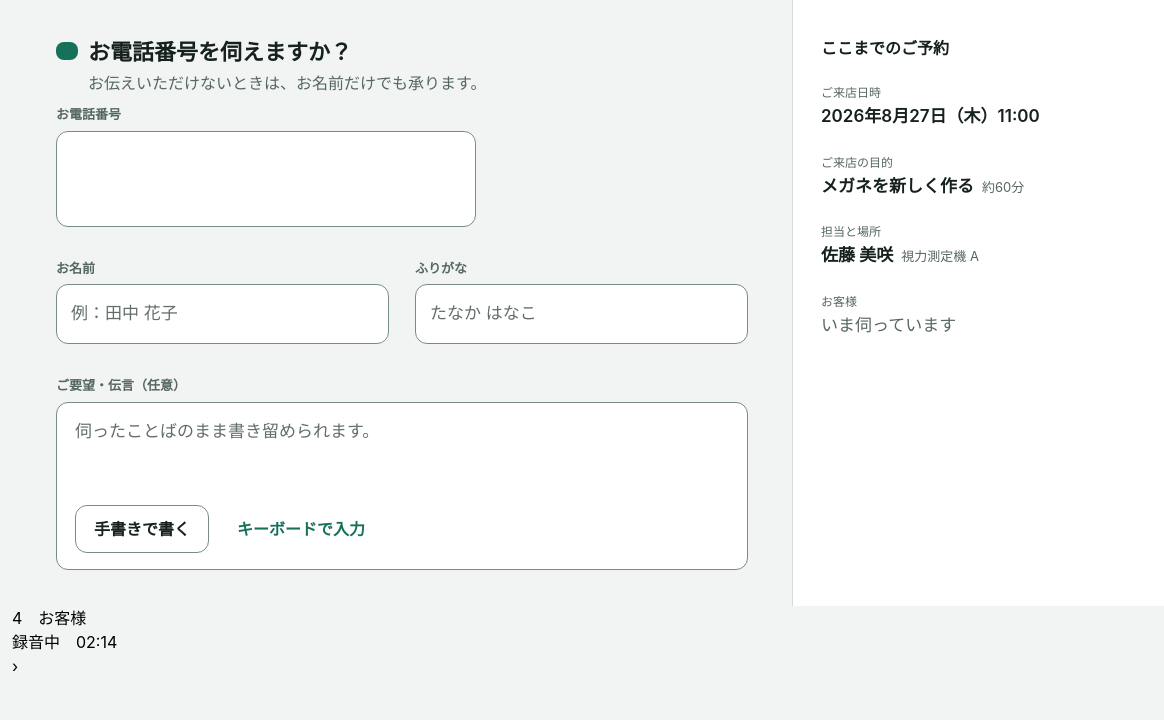
テンキー › 番号の欄を押すと右にテンキーが出て、iPadOS のソフトキーボードは出ない
This screenshot has width=1164, height=720.
Step 1. Click the dropdown labelled "お電話番号" → (266, 178), box [56,130,476,226]
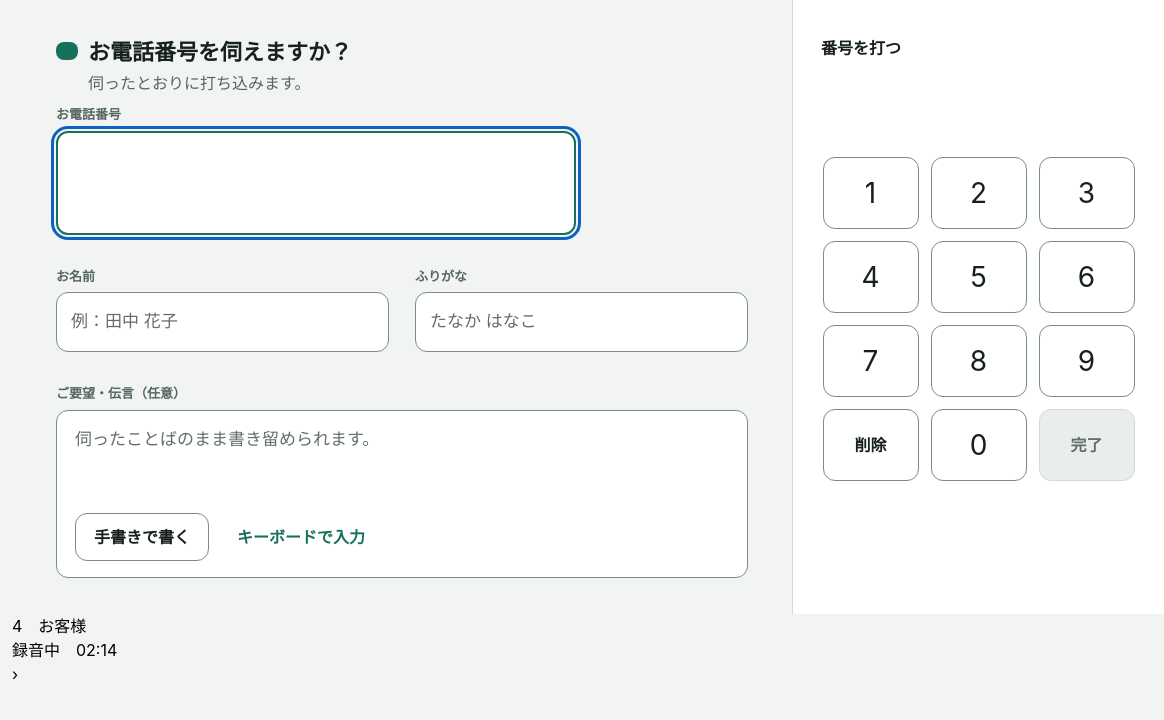
Expected: the element named "電話番号のテンキー" is shown, [822,157,1134,481]
